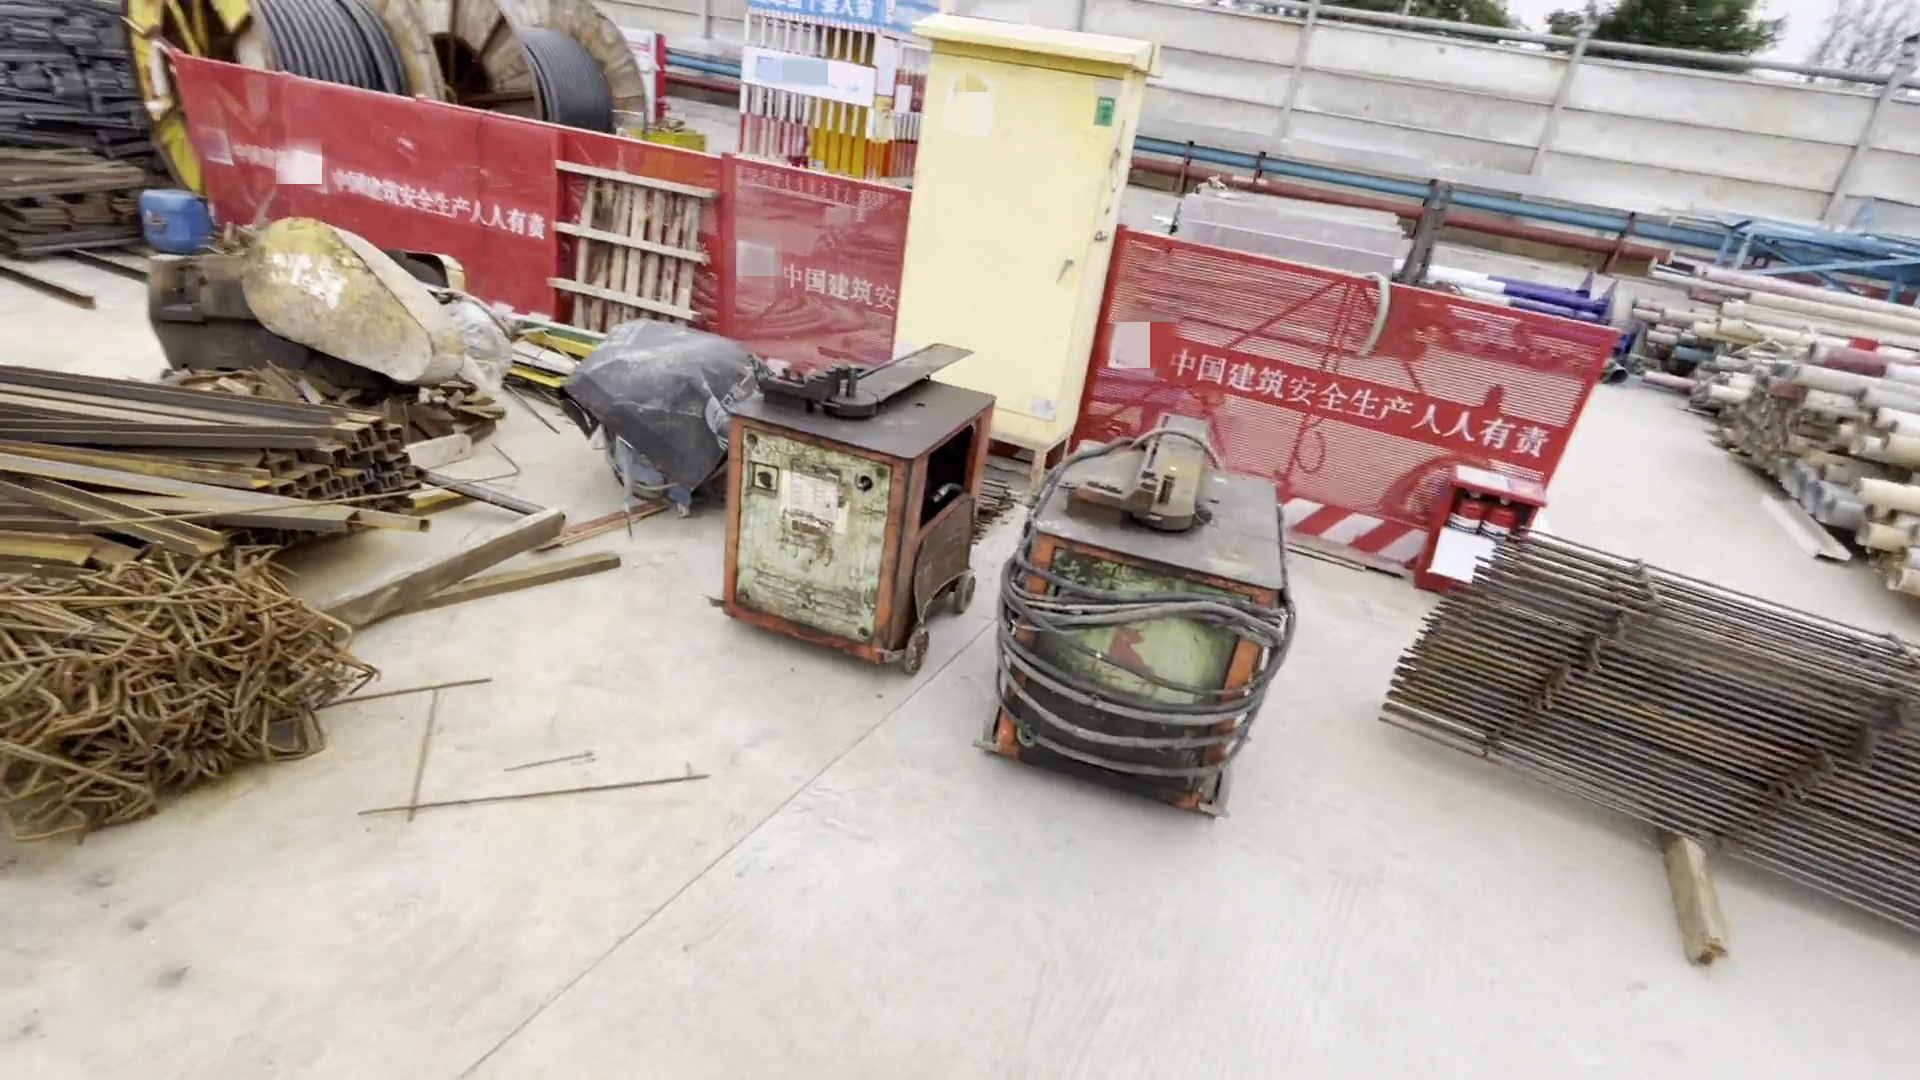ebox: (889, 4, 1145, 484)
fence: (127, 28, 898, 386), (1065, 222, 1559, 570)
